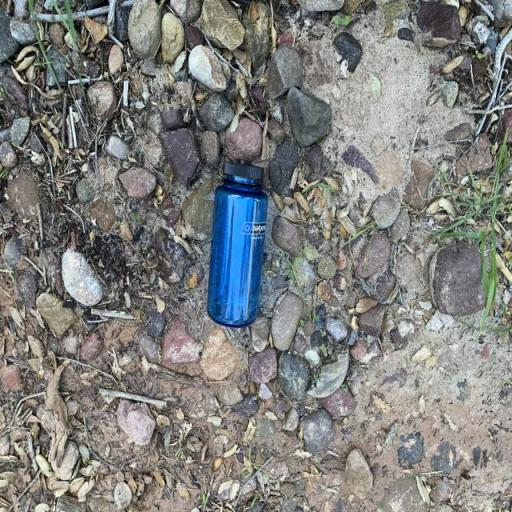bottle: (206, 159, 282, 328)
